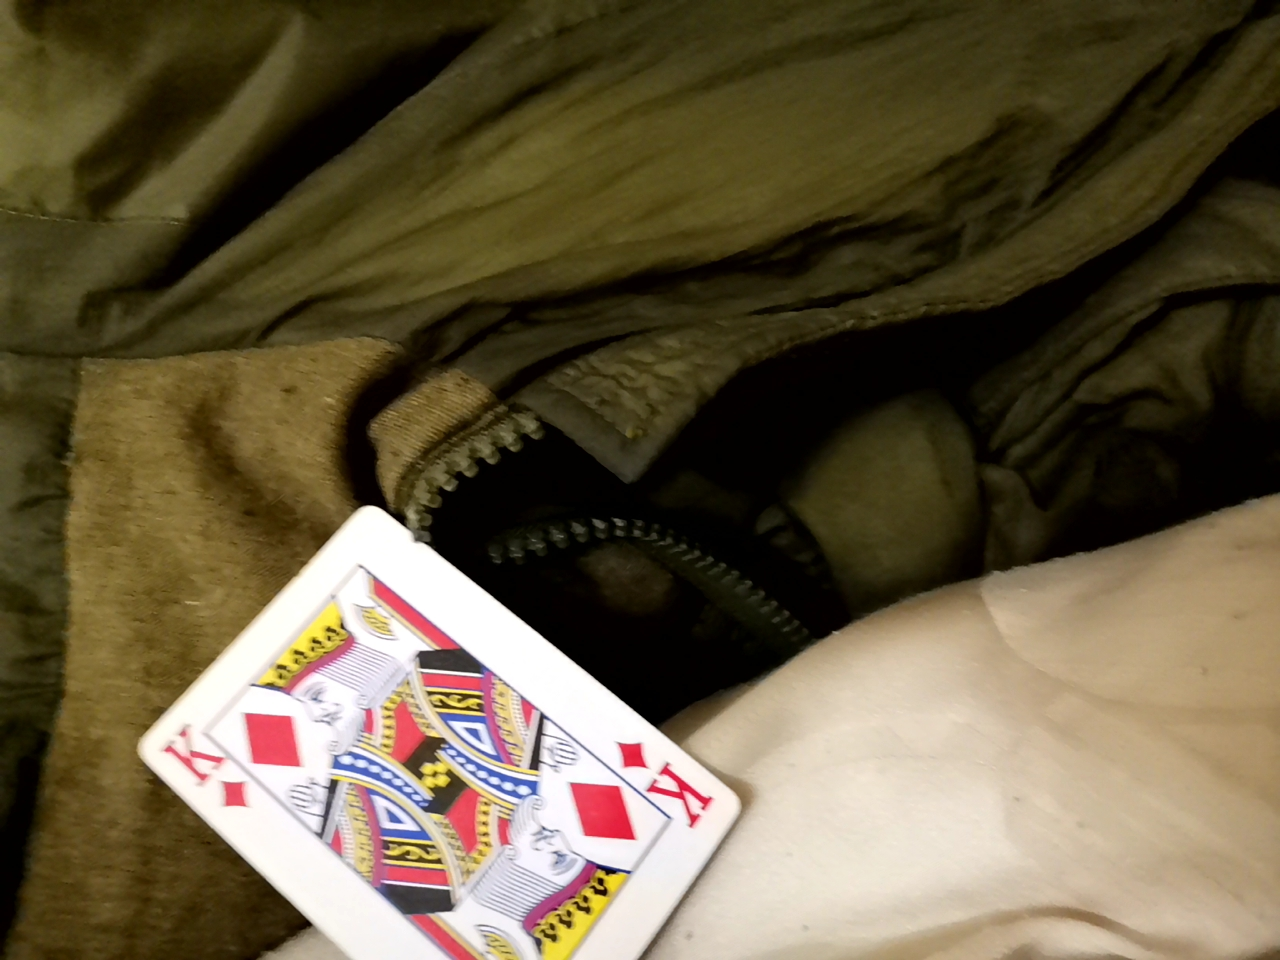fk k: (157, 449, 783, 960)
